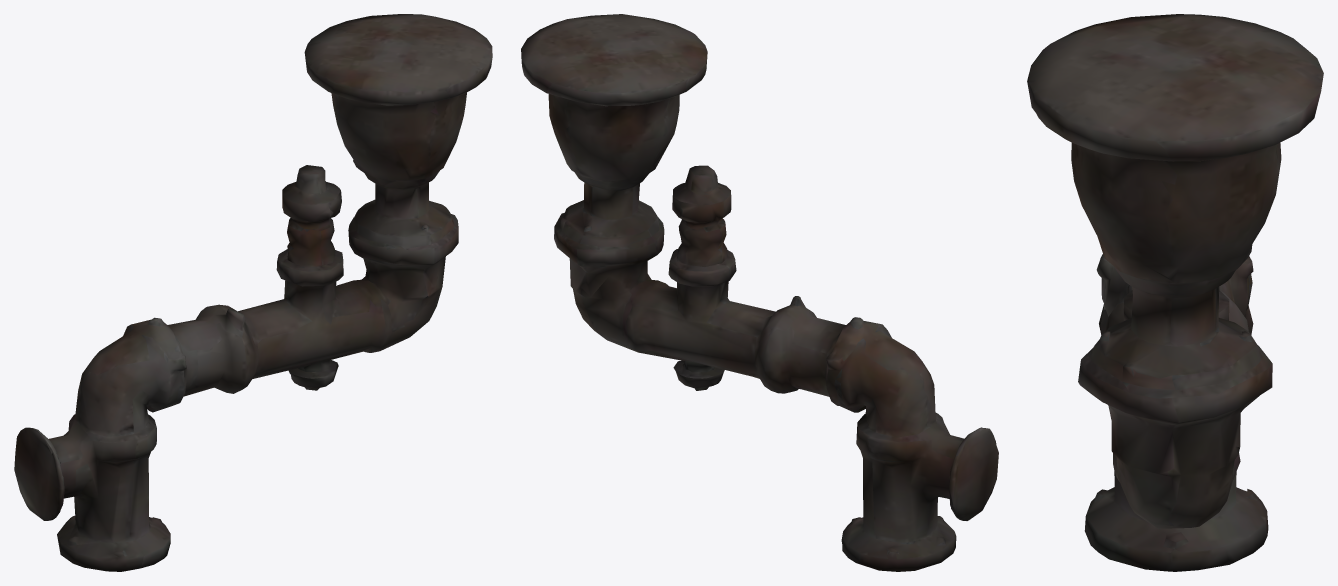
The model's file is ornate-iron-drainpipe-v001.glb.
The picture shows the model from 3 angles, left to right: view 1: azimuth 30°, elevation 25°; view 2: azimuth 150°, elevation 25°; view 3: azimuth 270°, elevation 25°; orthographic projection. The views are drawn at different scales.
Parts seen in each view (by area): view 1: ornate-iron-drainpipe; view 2: ornate-iron-drainpipe; view 3: ornate-iron-drainpipe.
Boxes of the visible parts, box(x1,y1,x2,y2) form: ornate-iron-drainpipe: box(14, 14, 492, 571); ornate-iron-drainpipe: box(521, 14, 998, 571); ornate-iron-drainpipe: box(1027, 14, 1323, 571).
Bounding box in the file's own units: 2.96 × 2.77 × 1.07.
Materials: 1 (1 with a texture image).
